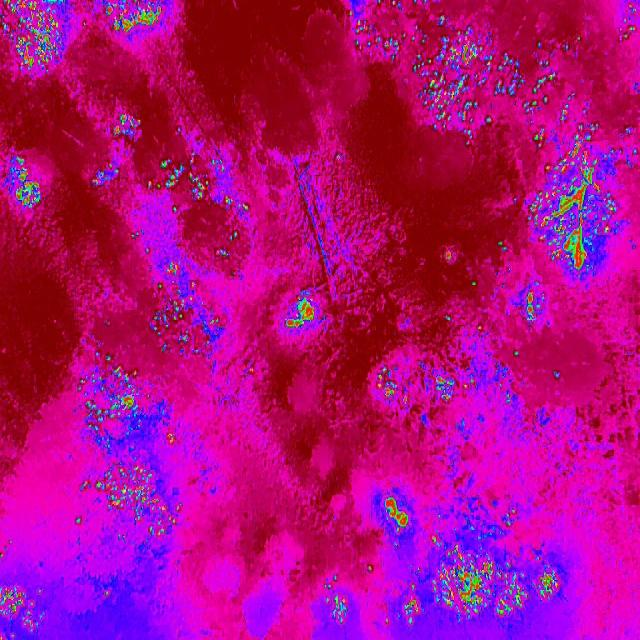fire: (348, 0, 586, 154), (72, 355, 190, 546), (513, 120, 631, 282), (403, 532, 562, 628), (0, 0, 166, 79), (146, 230, 242, 358), (92, 153, 260, 223), (440, 235, 550, 341), (0, 571, 43, 639), (6, 139, 42, 212), (320, 572, 358, 629), (378, 486, 414, 540), (99, 104, 145, 144), (286, 295, 322, 343), (430, 373, 468, 408), (371, 362, 399, 401)
